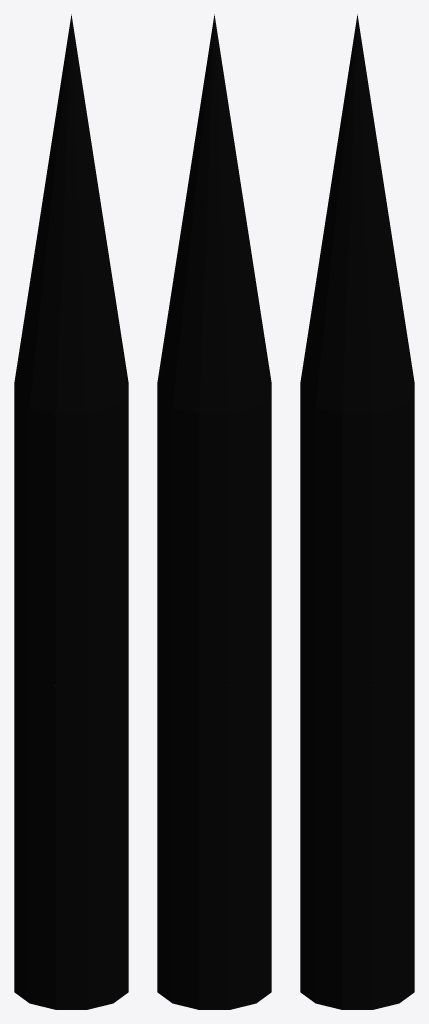
File: Tentacle.fbx
3 renders of one model, left to right at view 1: azimuth 30°, elevation 25°; view 2: azimuth 150°, elevation 25°; view 3: azimuth 330°, elevation 25°, orthographic.
Parts seen in each view (by area): view 1: cylinder, cylinder_1, cone; view 2: cylinder, cylinder_1, cone; view 3: cylinder, cylinder_1, cone.
Part boxes in pixels (<box>): cylinder: <box>14,667,128,1009</box>; cylinder_1: <box>14,396,128,685</box>; cone: <box>14,14,128,413</box>; cylinder: <box>157,667,271,1009</box>; cylinder_1: <box>157,396,271,685</box>; cone: <box>157,14,271,413</box>; cylinder: <box>300,667,414,1009</box>; cylinder_1: <box>300,396,414,685</box>; cone: <box>300,14,414,413</box>.
Size of the model in its own units: 100 by 938 by 100.
1 material, 1 textured.
